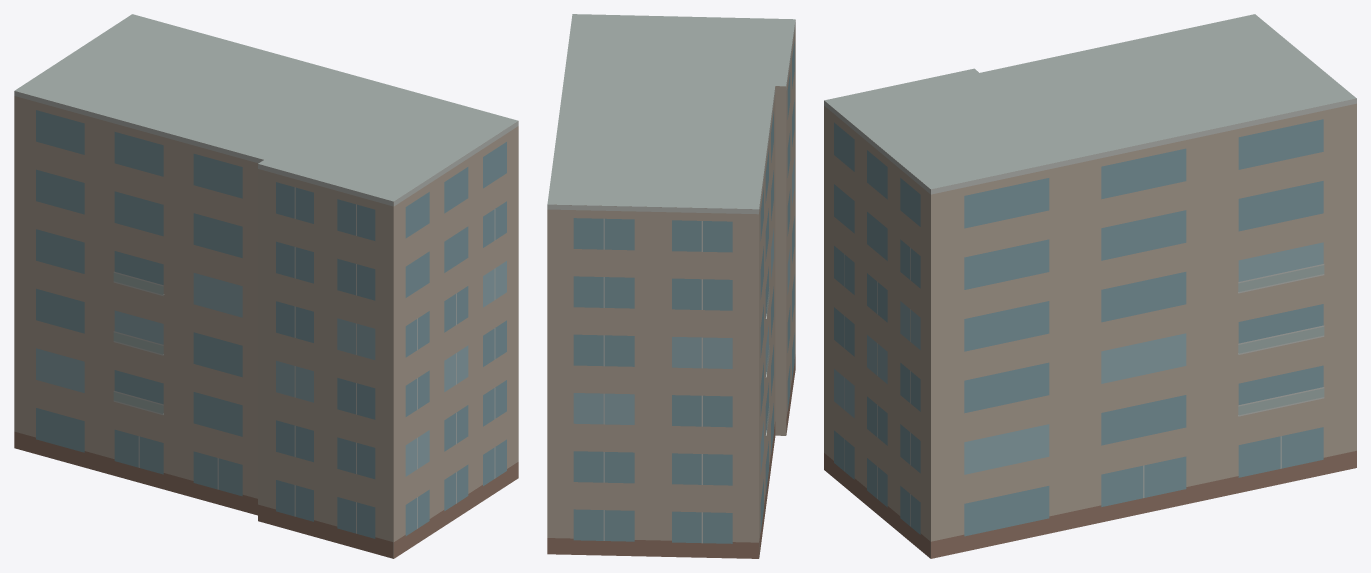
Rendered from survey-upis-32913502.glb.
The picture shows the model from 3 angles, left to right: view 1: azimuth 30°, elevation 25°; view 2: azimuth 150°, elevation 25°; view 3: azimuth 270°, elevation 25°; orthographic projection. The views are drawn at different scales.
Parts seen in each view (by area): view 1: survey-upis-32913502.tmp; view 2: survey-upis-32913502.tmp; view 3: survey-upis-32913502.tmp.
Boxes of the visible parts, <box> form: survey-upis-32913502.tmp: <box>14,14,518,558</box>; survey-upis-32913502.tmp: <box>547,14,795,558</box>; survey-upis-32913502.tmp: <box>824,14,1356,558</box>.
Bounding box in the file's own units: 17.62 × 17.3 × 22.61.
